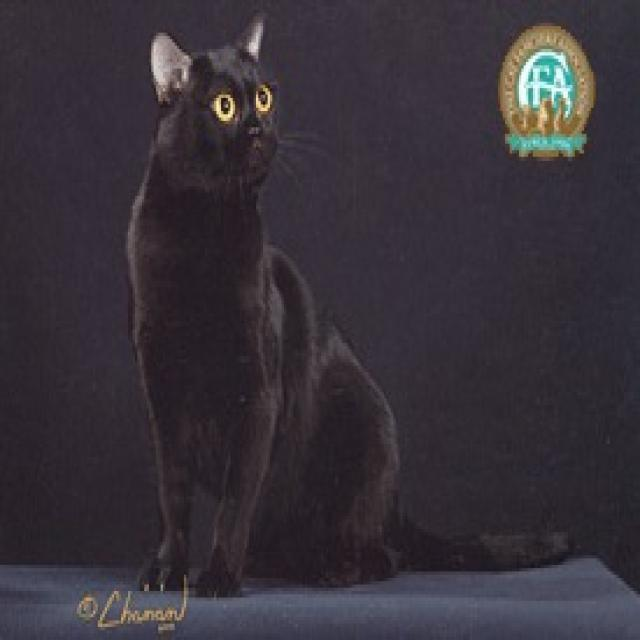Bombay: (140, 0, 288, 210)
